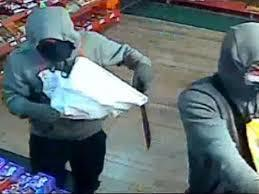weapon: (132, 77, 157, 151)
